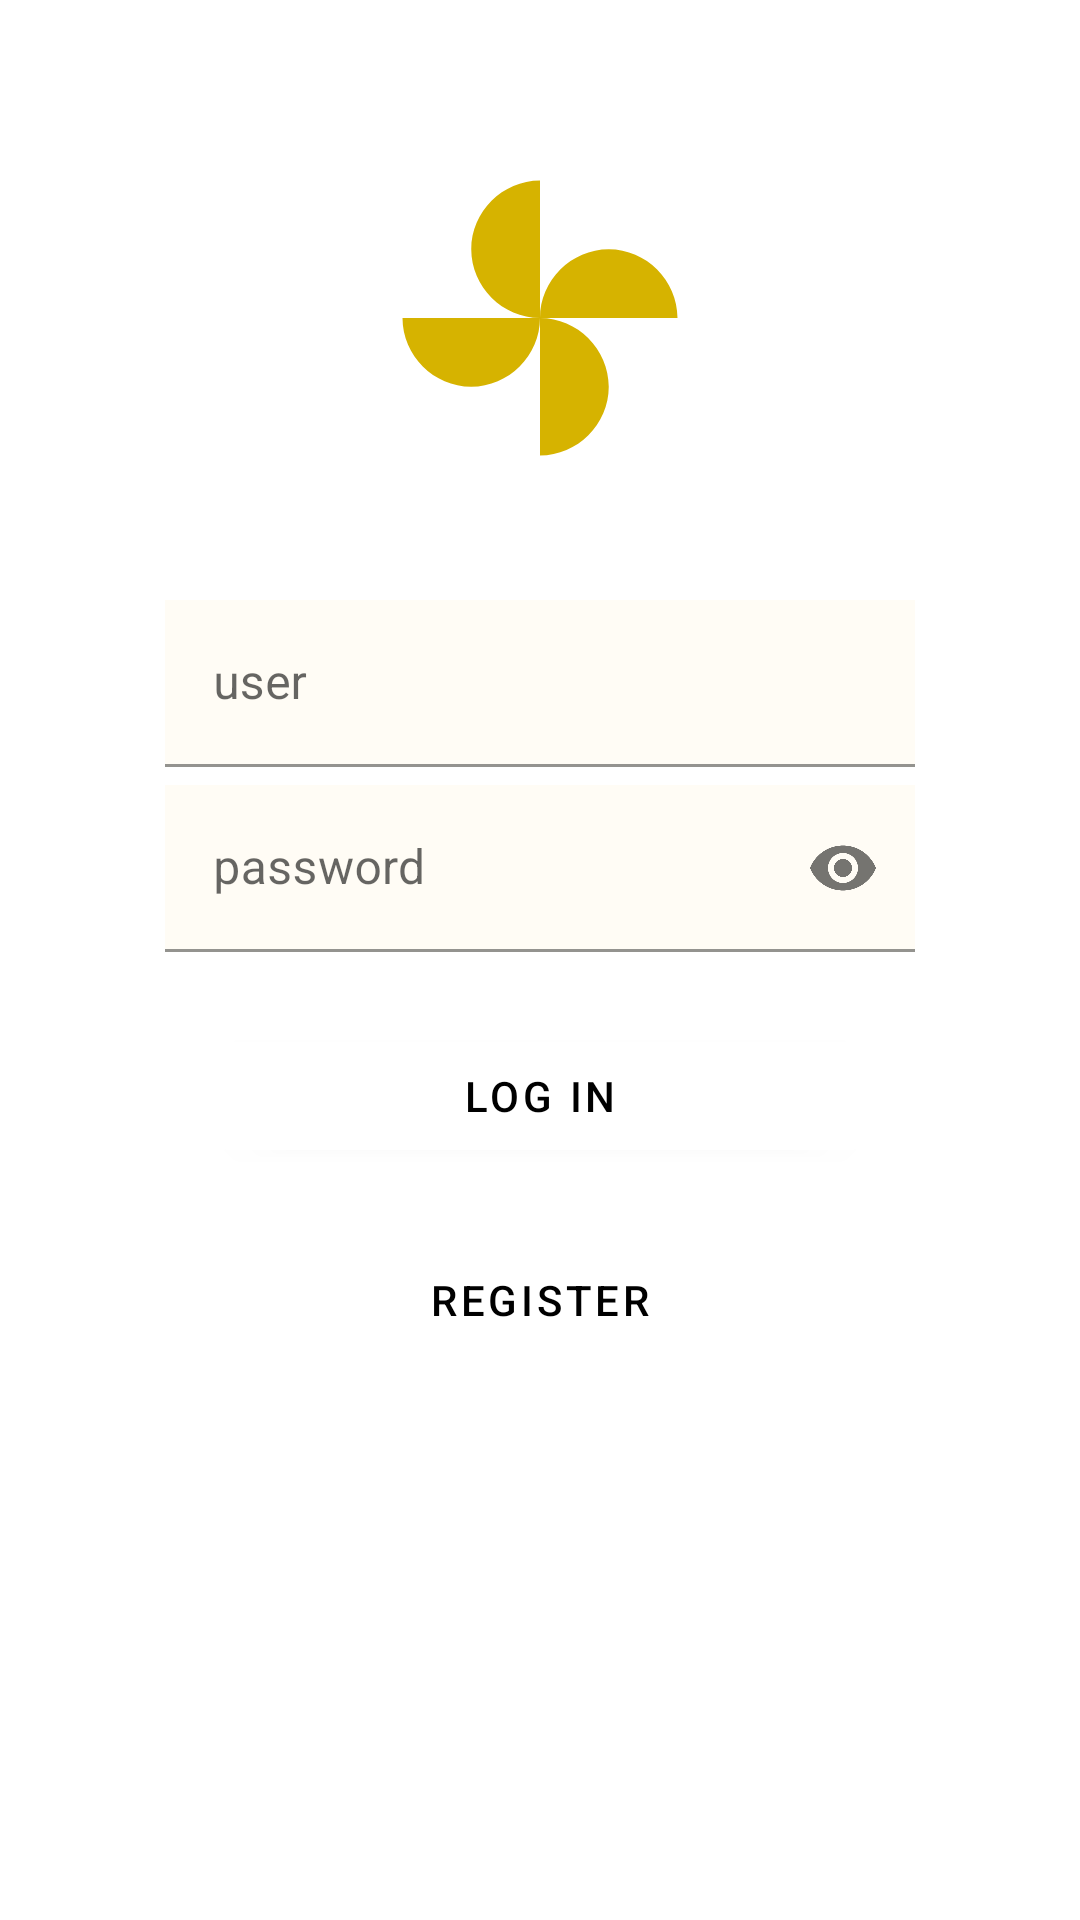

Icons on this 1080 x 1920 Android screen, each with the point to tap as (x=x, y=y):
fan: (x=540, y=318)
